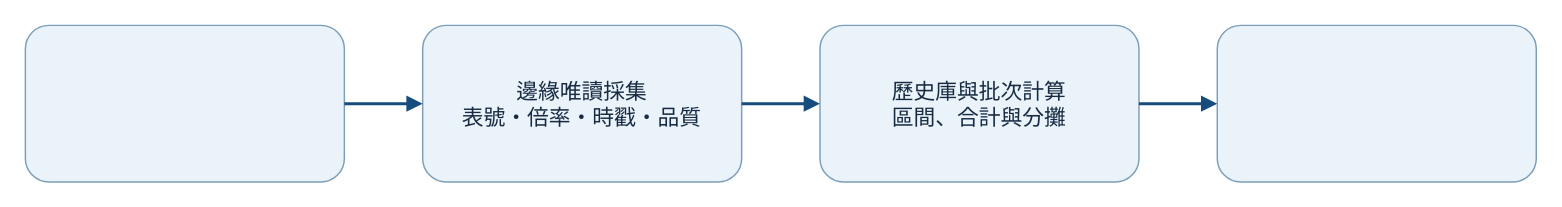
The diagram is 1562 pixels wide and 207 high, and some of its shapes have lost their labels. Here are the shapes that lost their labels. From the top down, the centre of each, then its label:
(184,103): 電力與產量來源 分電表・PLC/MES・良品數
(1376,103): 報表與唯讀 API KPI、版本及缺值
